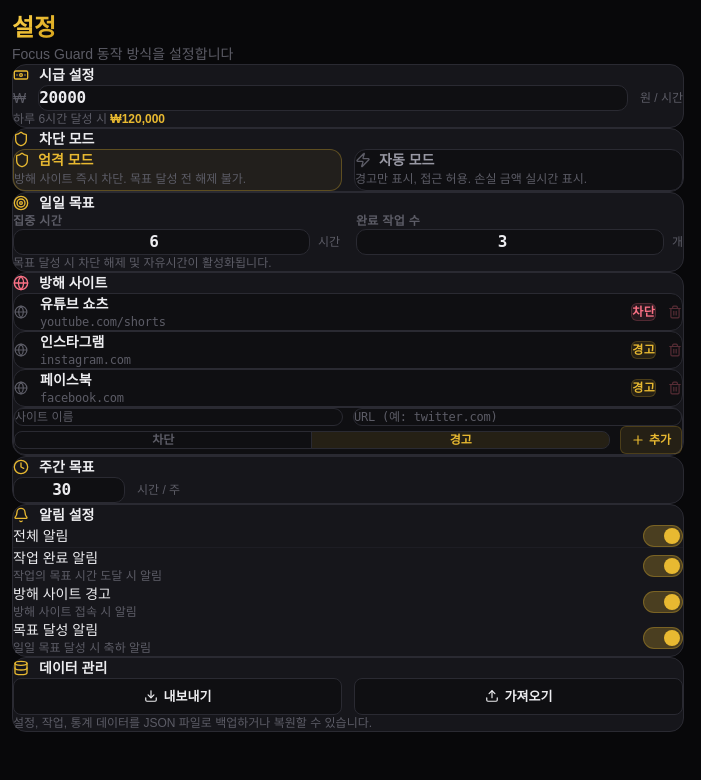
Test case: Settings › 방해사이트 추가: 이름+URL 입력 후 추가 → 목록에 표시
This screenshot has width=701, height=780.
Type "트위터" into the field with placeholder "사이트 이름" at (178, 416), box [14,408,343,426]
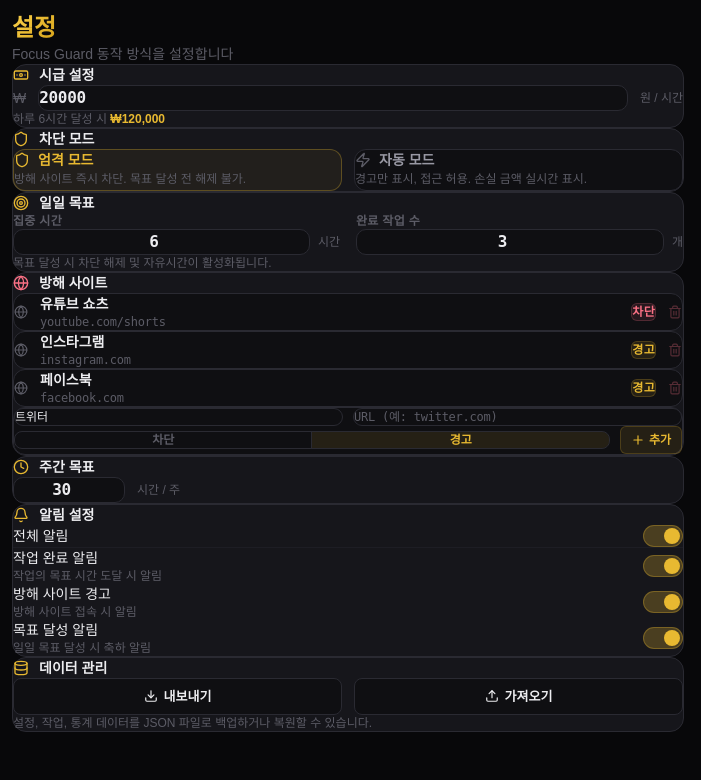
Type "twitter.com" into the field with placeholder "URL (예: twitter.com)" at (518, 416), box [353,408,682,426]
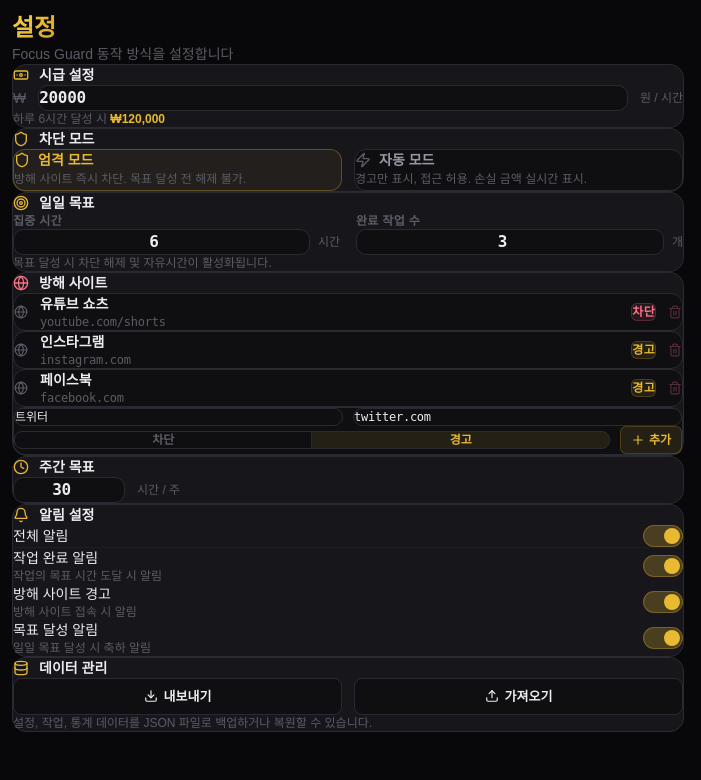
Click the button "추가" at (651, 440), box [620,426,682,454]
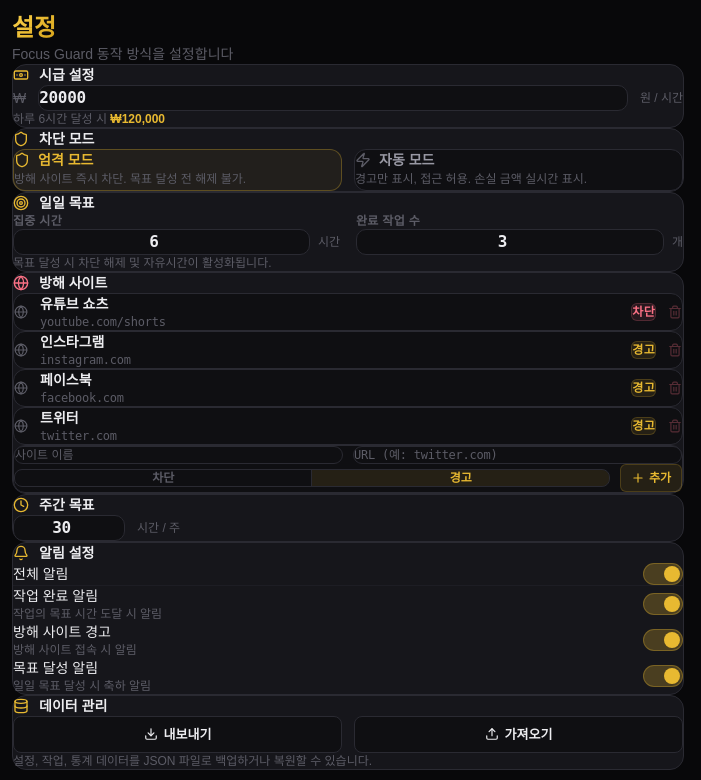
Check: the text "트위터" is shown, box [40,410,79,426]
Check: the text "twitter.com" is shown, box [40,428,117,442]
